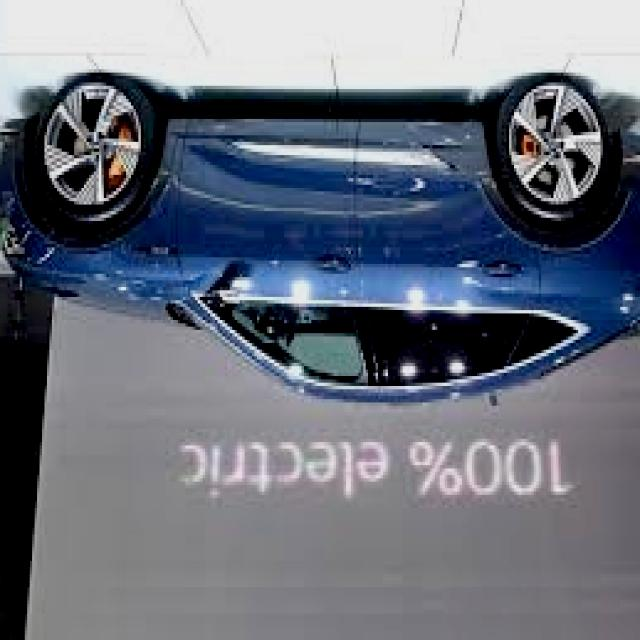blue: (0, 74, 640, 406)
